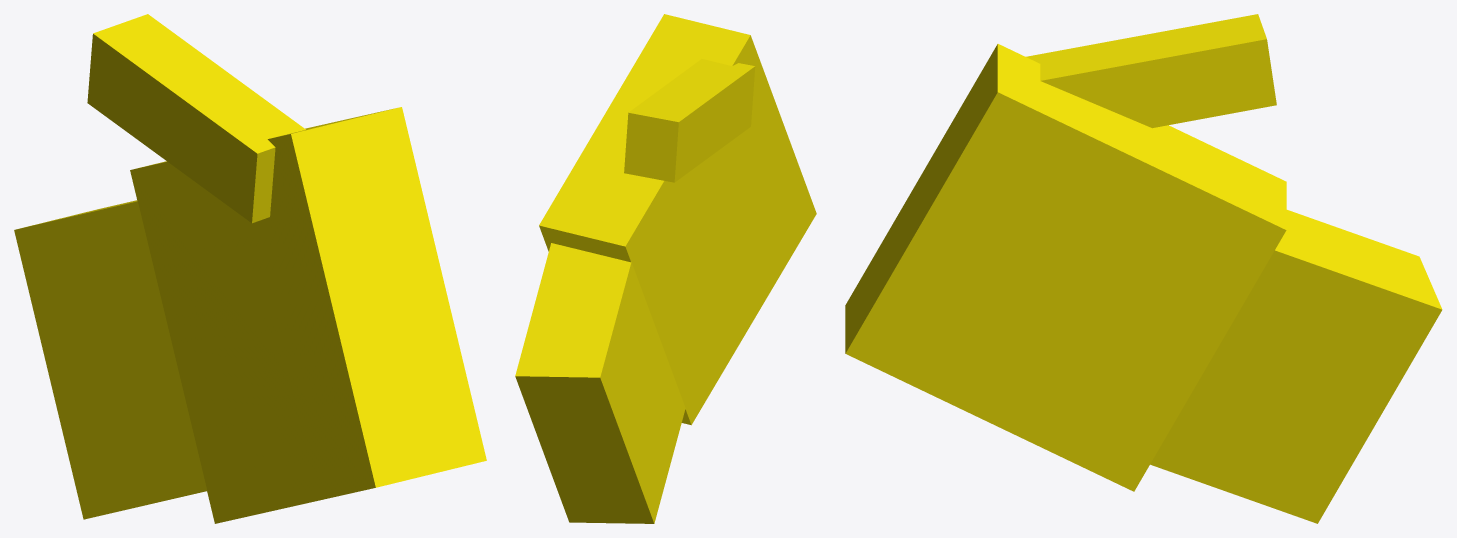
File: hand_r_open.glb
3 views of the same model, side by side, from view 1: azimuth 30°, elevation 25°; view 2: azimuth 150°, elevation 25°; view 3: azimuth 270°, elevation 25° (orthographic). The views are drawn at different scales.
Parts seen in each view (by area): view 1: Cube, Cube.002, Cube.001; view 2: Cube, Cube.002, Cube.001; view 3: Cube, Cube.002, Cube.001.
Boxes of the visible parts, box(x1,y1,x2,y2) form: Cube: box(130, 107, 486, 523); Cube.002: box(14, 200, 207, 519); Cube.001: box(87, 14, 305, 223); Cube: box(539, 14, 816, 425); Cube.002: box(515, 243, 685, 523); Cube.001: box(624, 59, 755, 182); Cube: box(845, 44, 1286, 491); Cube.002: box(1150, 210, 1442, 523); Cube.001: box(1026, 14, 1276, 128).
Bounding box in the file's own units: 1.04 × 3.14 × 3.66.
